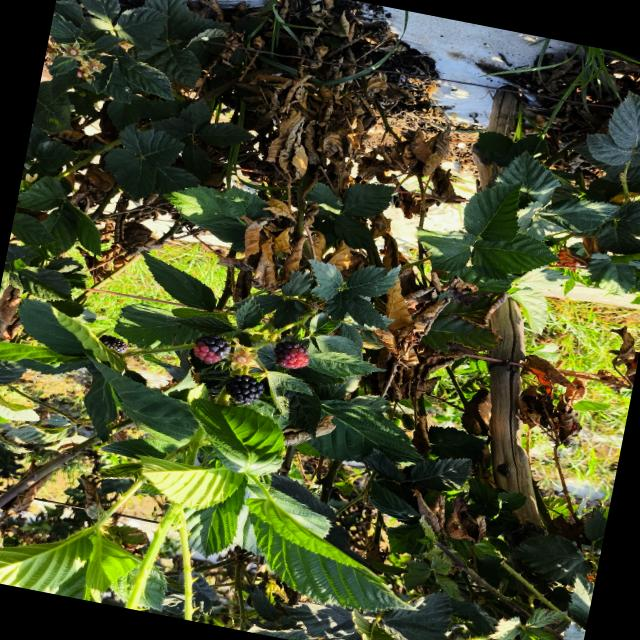maduro: (225, 375, 264, 405)
marron: (194, 334, 231, 364), (274, 342, 309, 369)
